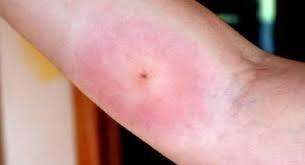Spider: (90, 25, 202, 138)
